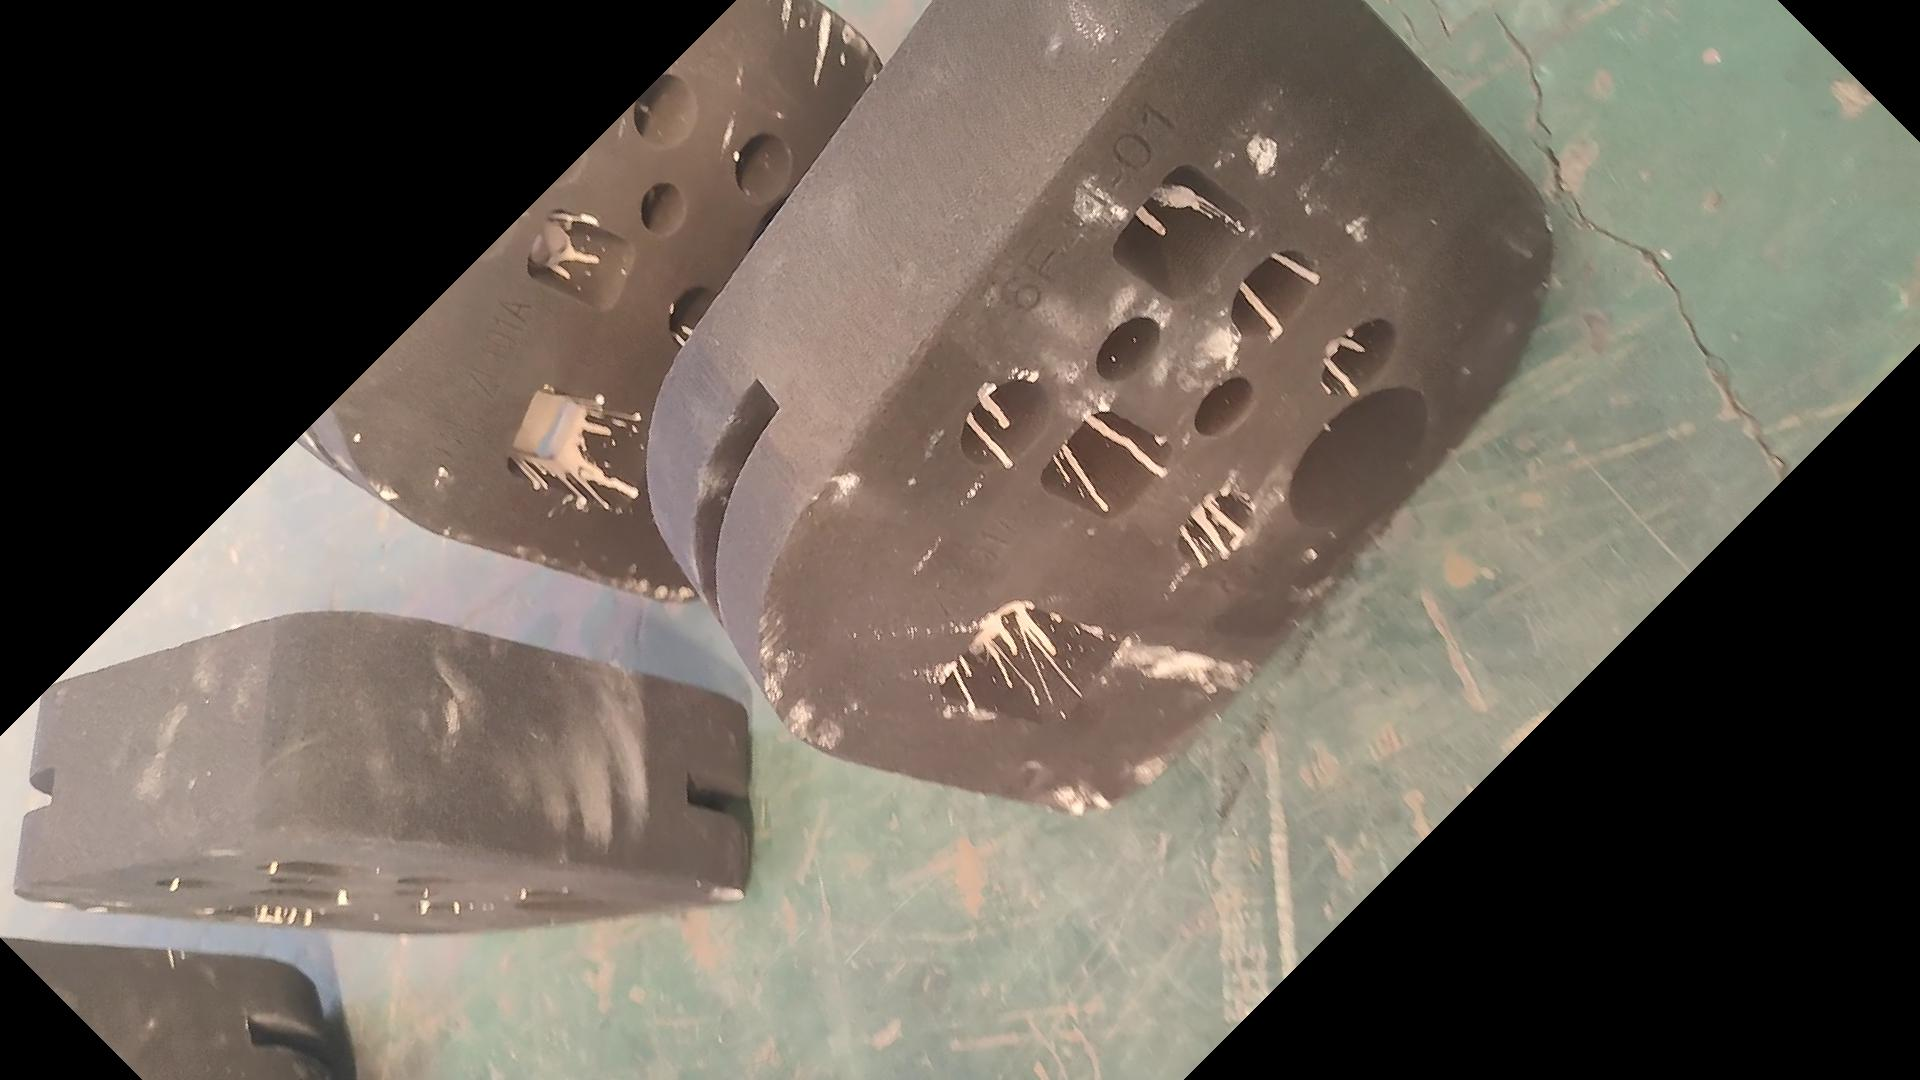pouring hole: (1290, 384, 1431, 530), (749, 196, 864, 276), (506, 899, 651, 918)
